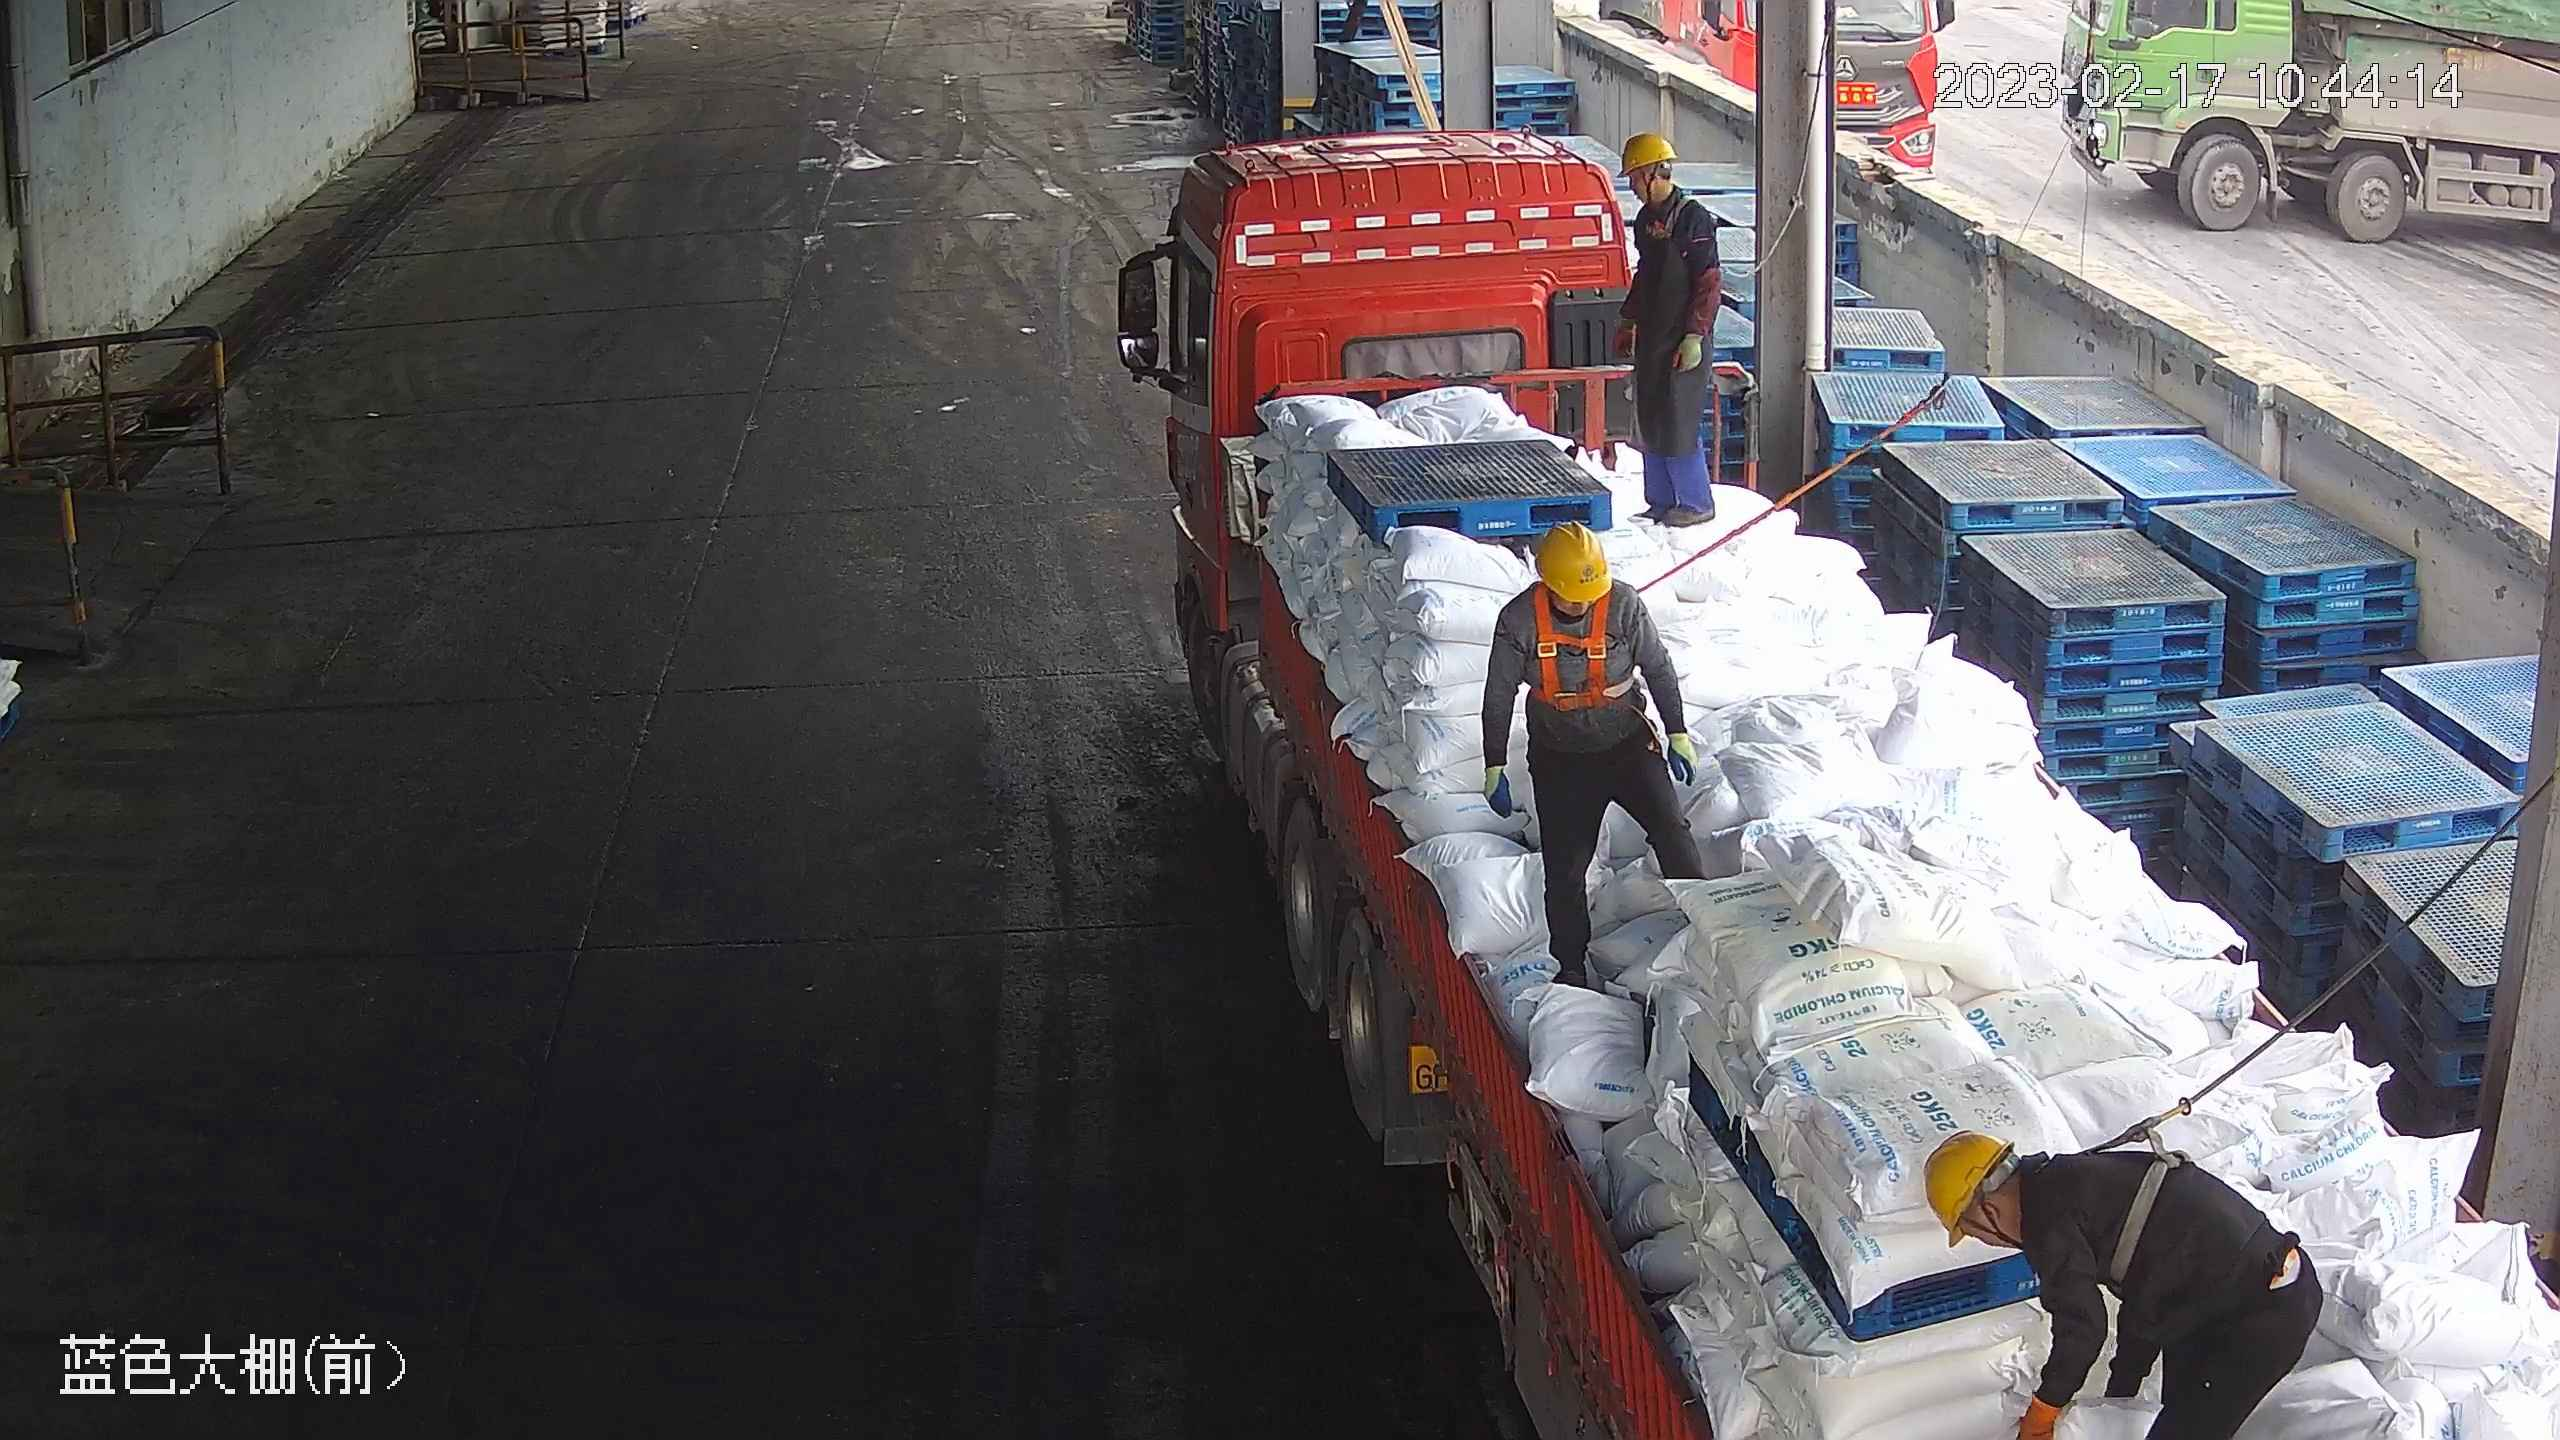belt: (2080, 1108, 2190, 1303), (1527, 582, 1639, 712), (1642, 195, 1706, 240)
head: (1927, 1127, 2188, 1317), (1512, 525, 1664, 661), (1618, 137, 1723, 242)
helmet: (1927, 1130, 2008, 1249), (1534, 525, 1615, 603), (1615, 135, 1678, 176)
people: (1925, 1128, 2325, 1440), (1481, 518, 1701, 984), (1618, 132, 1727, 525)
truck: (1113, 127, 2560, 1440)
